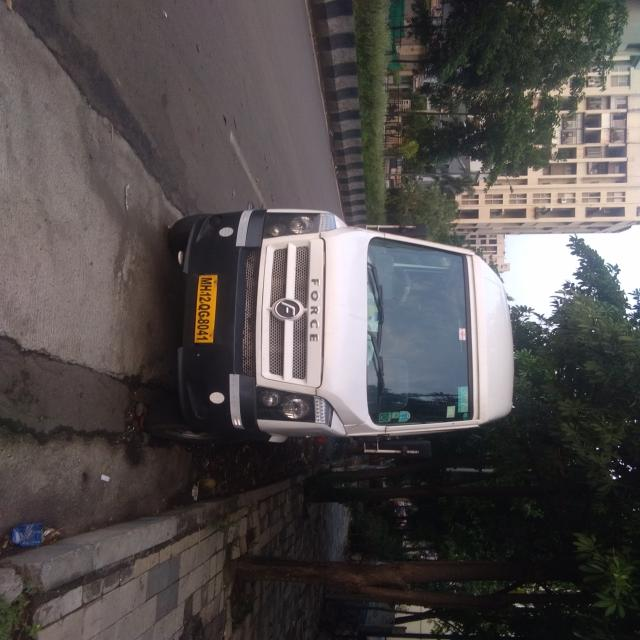Traveller: (170, 210, 513, 441)
